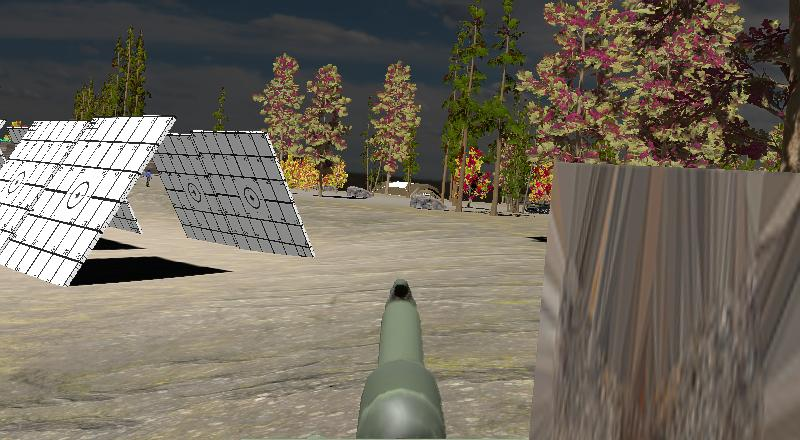Human: (144, 168, 154, 190)
Tank: (524, 198, 553, 215)
